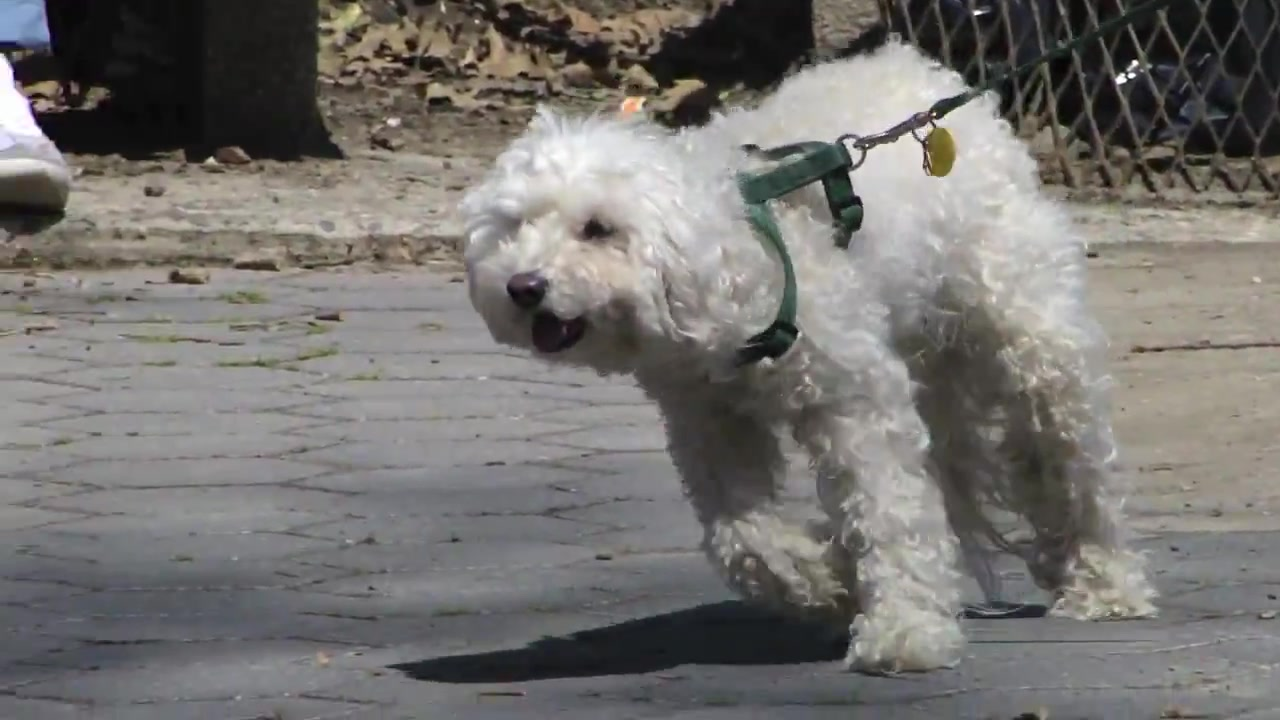dog: (460, 41, 1164, 681)
